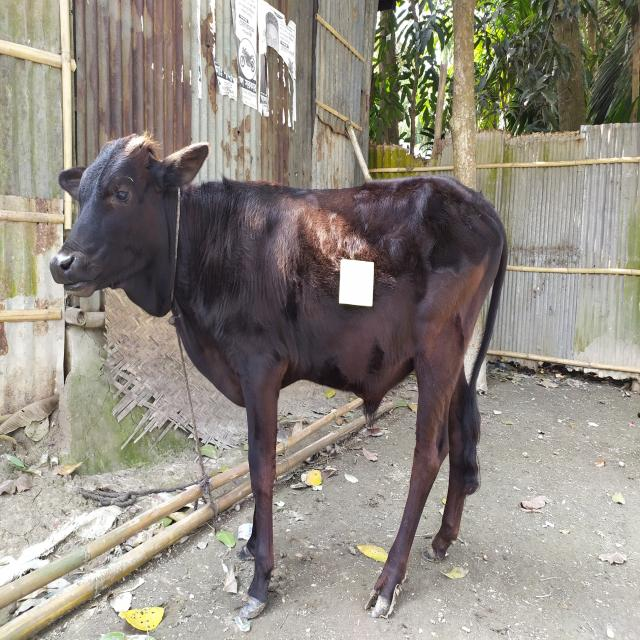badan_sapi: (232, 179, 493, 399)
sapi: (49, 126, 510, 625)
